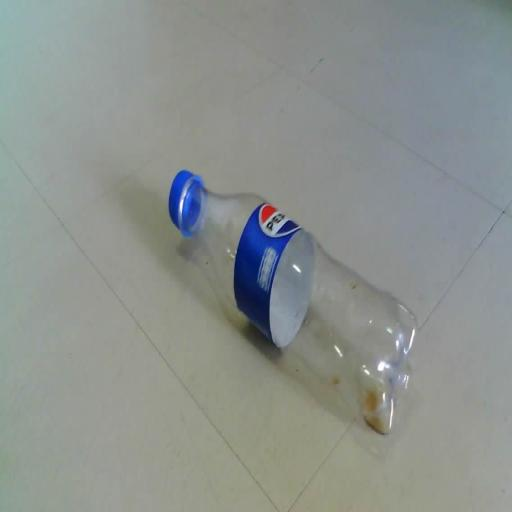bottle: (143, 147, 436, 454)
